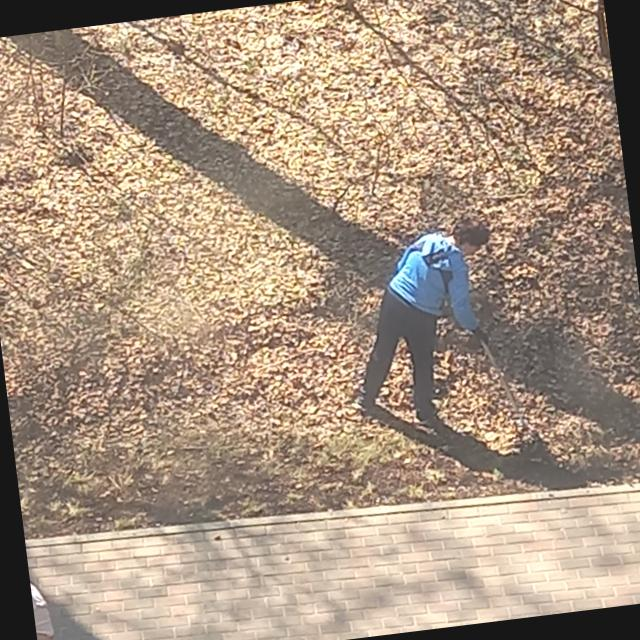person: (338, 214, 512, 432)
